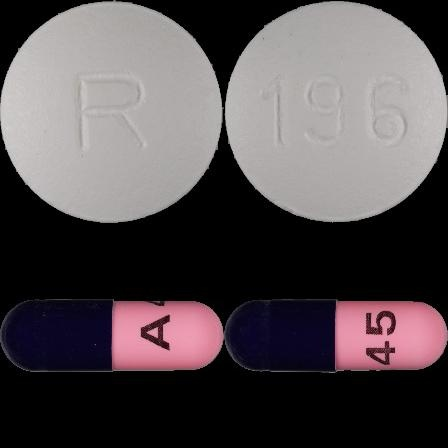68788-9785: (0, 0, 224, 224)
